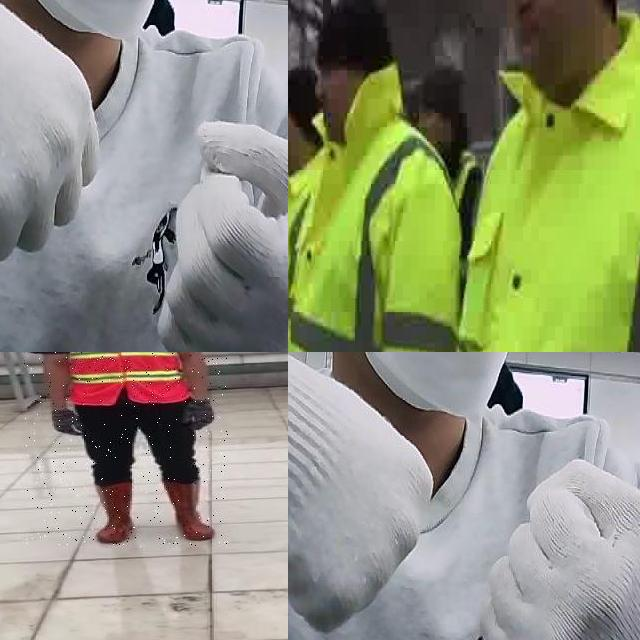BOOTS: (160, 479, 218, 540), (91, 482, 137, 544)
GLOVE: (288, 352, 433, 629), (160, 117, 288, 352), (483, 457, 640, 640), (0, 0, 102, 260), (183, 394, 218, 430), (51, 408, 85, 438)
VEST: (440, 4, 640, 352), (288, 63, 464, 352), (288, 147, 329, 352), (52, 352, 189, 406)
